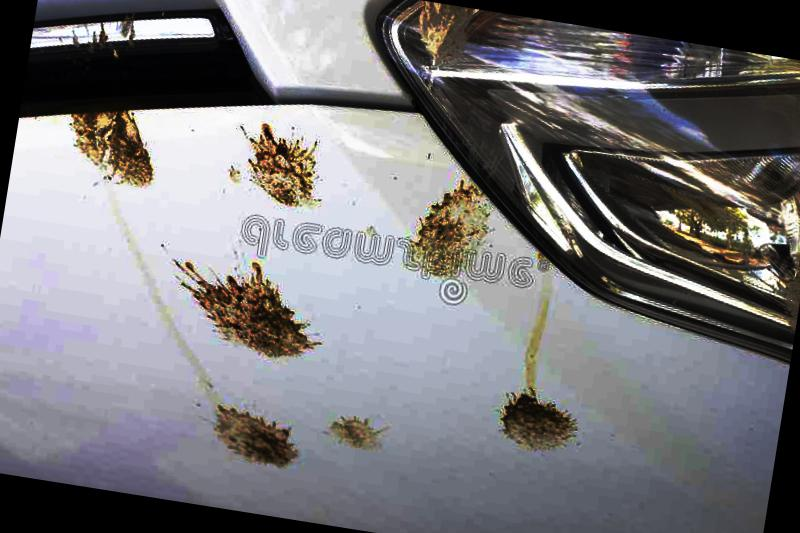Bird Poop: (174, 262, 315, 356), (500, 265, 572, 448), (412, 182, 486, 276), (69, 111, 151, 186), (247, 125, 314, 206), (216, 407, 294, 466), (58, 15, 134, 70), (334, 419, 376, 446)
